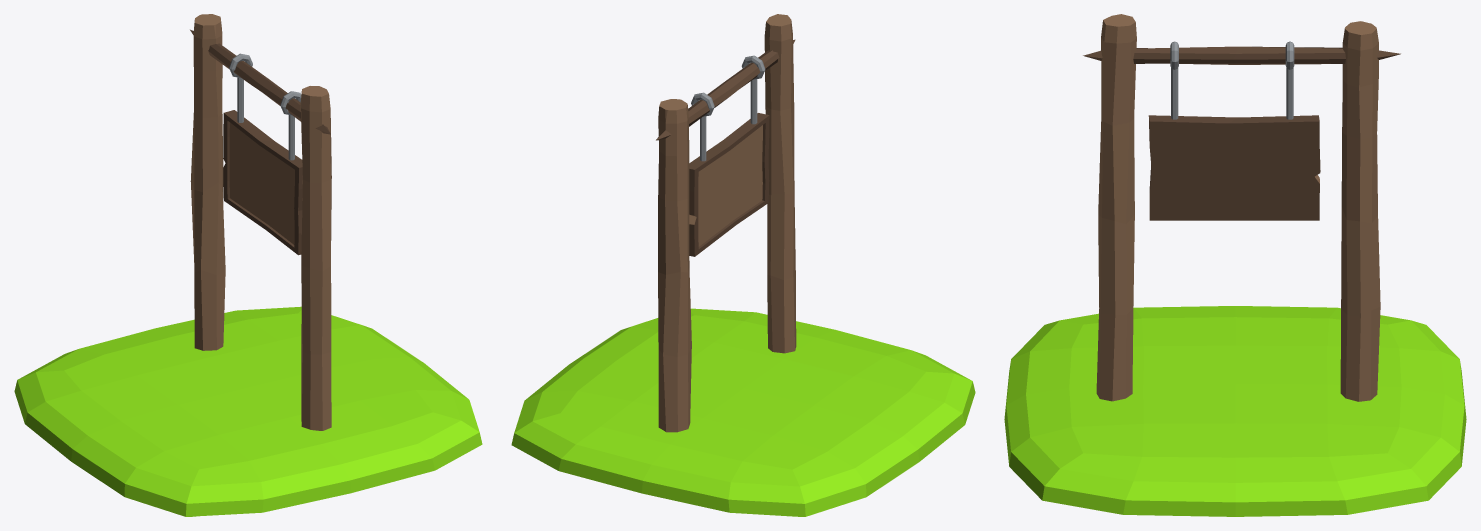
The model's file is sign.glb.
The picture shows the model from 3 angles, left to right: view 1: azimuth 30°, elevation 25°; view 2: azimuth 150°, elevation 25°; view 3: azimuth 270°, elevation 25°; orthographic projection. The views are drawn at different scales.
Visible parts, largest first — view 1: Ground_10, PostL_0, PostR_3, Board1_9, PostM_4; view 2: Ground_10, PostR_3, PostL_0, Board1_9, PostM_4; view 3: Ground_10, Board1_9, PostR_3, PostL_0, PostM_4.
Boxes of the visible parts, x1,y1,x2,y2 form: Ground_10: (14,306,482,516); PostL_0: (300,86,331,430); PostR_3: (190,14,225,350); Board1_9: (223,110,302,255); PostM_4: (190,29,330,134); Ground_10: (511,308,975,516); PostR_3: (658,99,691,432); PostL_0: (764,14,796,353); Board1_9: (689,113,769,256); PostM_4: (656,39,795,140); Ground_10: (1004,306,1466,516); Board1_9: (1148,115,1320,220); PostR_3: (1340,21,1380,401); PostL_0: (1096,14,1136,401); PostM_4: (1083,46,1400,64).
Bounding box in the file's own units: 3.8 × 3.85 × 3.8.
